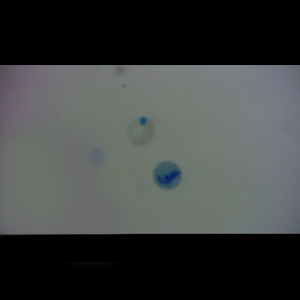aggregate reticulocyte: (152, 161, 183, 191)
erythrocyte: (126, 116, 155, 147)
